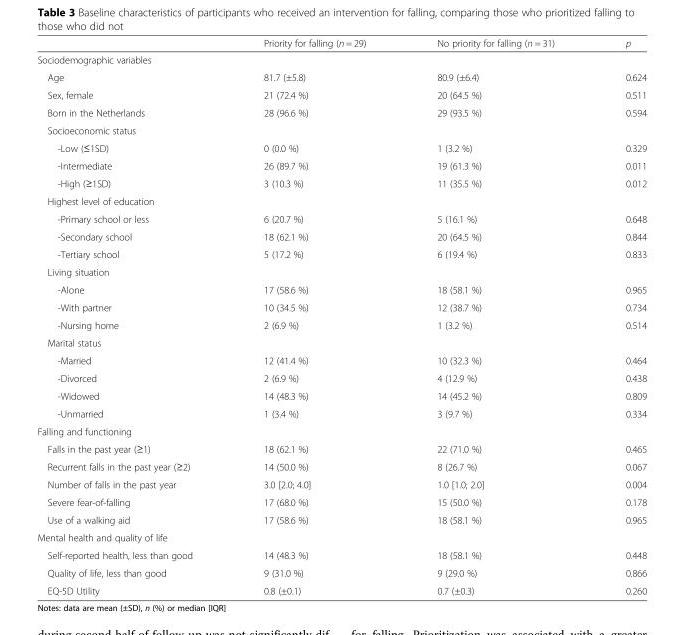table: (36, 37, 646, 595)
table column: (36, 37, 227, 595), (400, 37, 589, 595), (227, 37, 400, 595), (589, 37, 646, 595)
table column header: (36, 37, 646, 50)
table projected row header: (36, 50, 646, 68), (36, 262, 646, 280), (36, 333, 646, 351), (36, 528, 646, 546), (36, 121, 646, 138), (36, 192, 646, 209), (36, 422, 646, 439)
table row: (36, 50, 646, 68), (36, 85, 646, 103), (36, 103, 646, 121), (36, 138, 646, 156), (36, 156, 646, 174), (36, 174, 646, 192), (36, 209, 646, 227), (36, 227, 646, 245), (36, 262, 646, 280), (36, 280, 646, 298), (36, 315, 646, 333), (36, 333, 646, 351), (36, 351, 646, 369), (36, 386, 646, 404), (36, 404, 646, 422), (36, 439, 646, 457), (36, 457, 646, 475), (36, 475, 646, 493), (36, 510, 646, 528), (36, 528, 646, 546), (36, 563, 646, 581), (36, 68, 646, 85), (36, 121, 646, 138), (36, 192, 646, 209), (36, 245, 646, 262), (36, 298, 646, 315), (36, 369, 646, 386), (36, 422, 646, 439), (36, 493, 646, 510), (36, 546, 646, 563), (36, 581, 646, 595), (36, 37, 646, 50)
